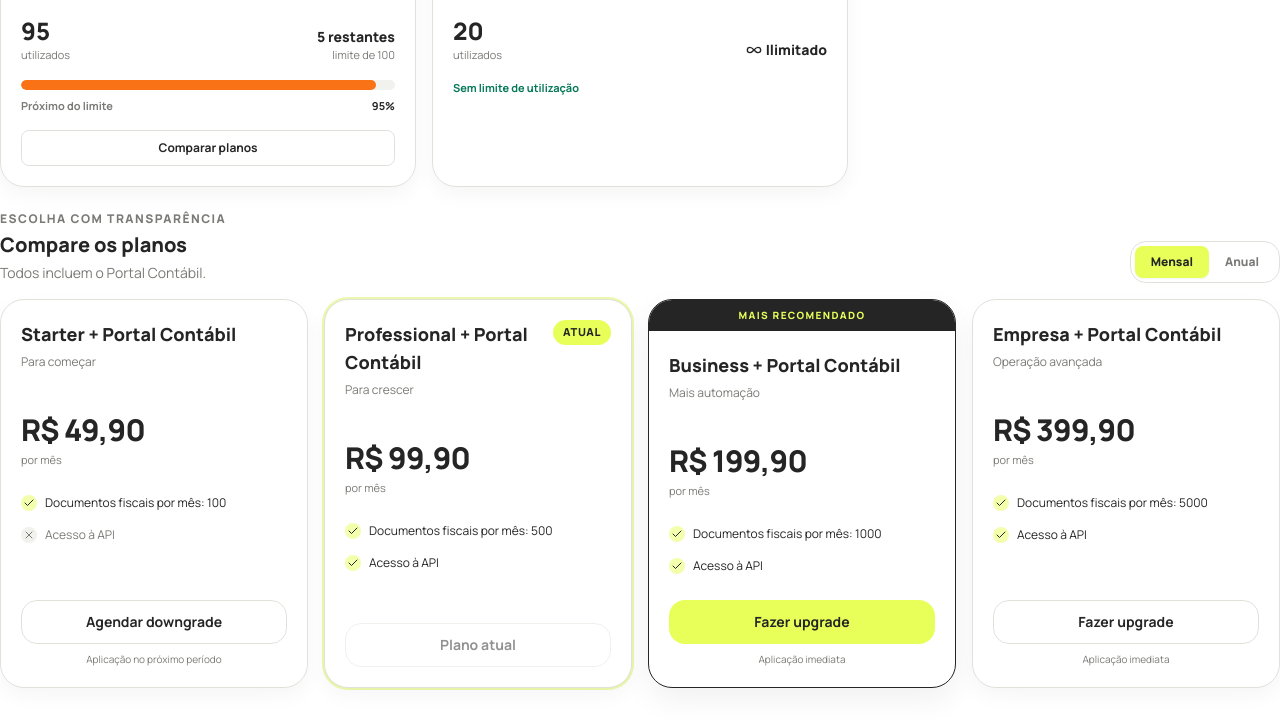
it: página de assinatura › agenda downgrade sem substituir o plano atual
(page scrolled)
What coordinates should you click on to do the following:
click the button "Agendar downgrade"
I would click on:
 (154, 622)
Its box is [21, 600, 287, 644].
(page scrolled)
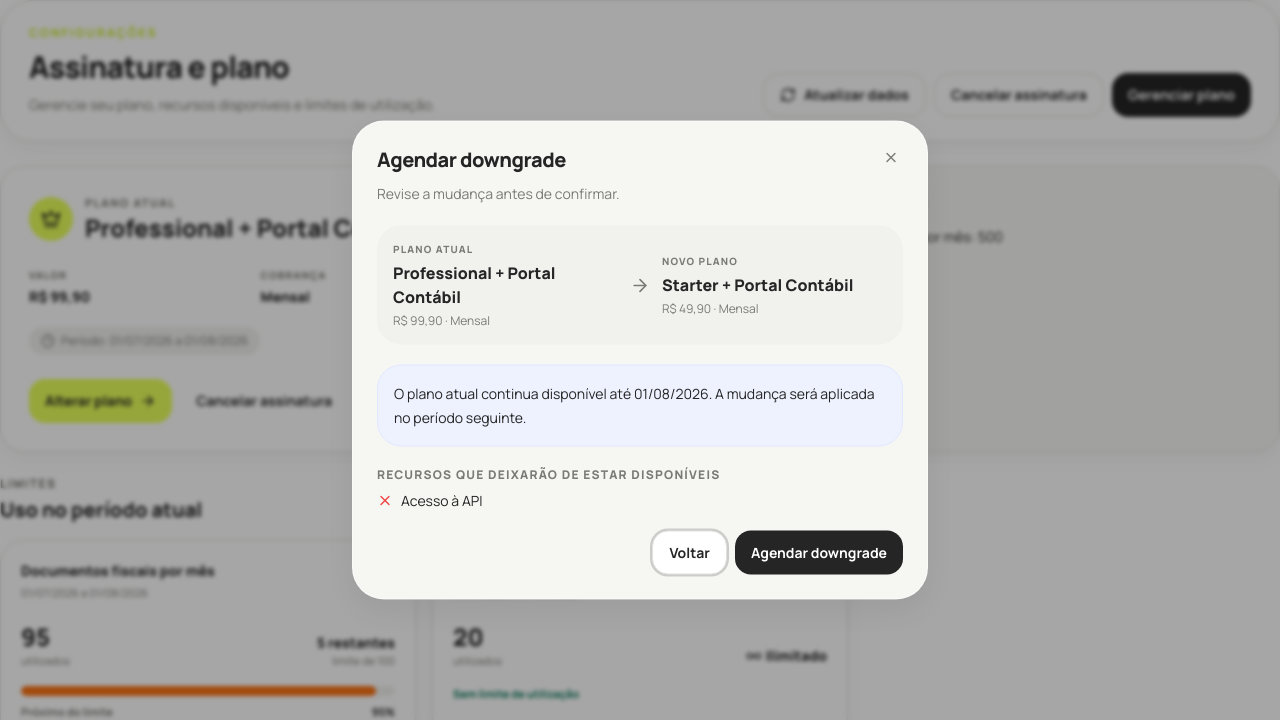
Check: the heading "Professional + Portal Contábil" is shown, box [85, 212, 436, 244]
Check: the text "01/08/2026" is shown, box [634, 384, 709, 402]
